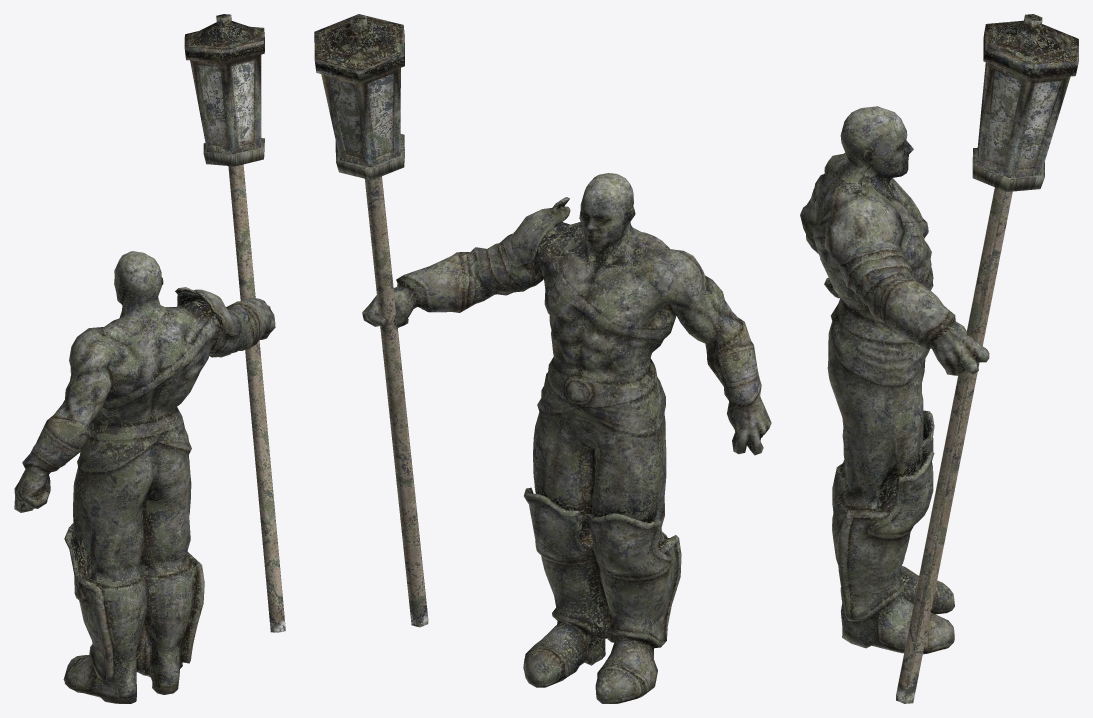
File: lamp.glb
3 renders of one model, left to right at view 1: azimuth 30°, elevation 25°; view 2: azimuth 150°, elevation 25°; view 3: azimuth 270°, elevation 25°, orthographic. The views are drawn at different scales.
Parts seen in each view (by area): view 1: Statue_With_Lamp_LP; view 2: Statue_With_Lamp_LP; view 3: Statue_With_Lamp_LP.
Boxes of the visible parts, left/top/right/bottom form: Statue_With_Lamp_LP: left=14, top=14, right=285, bottom=703; Statue_With_Lamp_LP: left=314, top=14, right=771, bottom=703; Statue_With_Lamp_LP: left=800, top=14, right=1078, bottom=703.
Size of the model in its own units: 173 by 302 by 109.
1 material, 1 textured.
